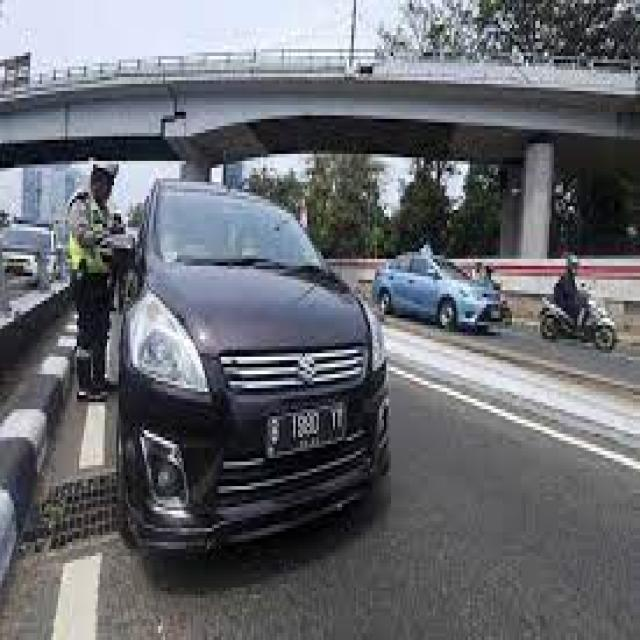license-plat: (255, 393, 372, 476)
